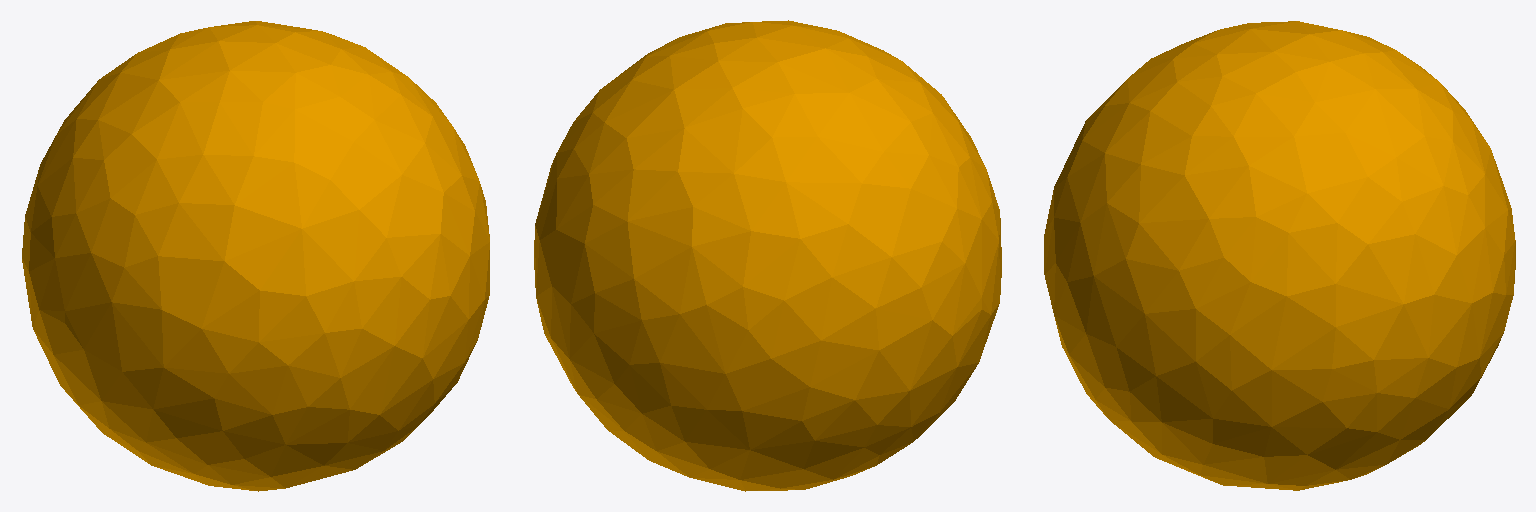
URDF robot description (057_racquetball):
<?xml version="1.0" encoding="UTF-8"?>
<robot name="057_racquetball">
	<link name="base">
		<collision>
			<geometry>
				<mesh filename="..\vhacd\057_racquetball_vhacd.obj" scale="1.0 1.0 1.0"/>
			</geometry>
			<origin xyz="0 0 0"/>
			<contact_coefficients mu="0.24" />
		</collision>
		<visual>
			<geometry>
				<mesh filename="..\vhacd\057_racquetball_vhacd.obj" scale="1.0 1.0 1.0"/>
			</geometry>
			<origin xyz="0 0 0"/>
		</visual>
		<inertial>
			<mass value="0"/>
			<inertia ixx="0.0" ixy="0.0" ixz="-0.0" iyy="0.0" iyz="-0.0" izz="0.0" />
			<origin xyz="-0.009071044775700624 -0.12221649947040174 0.027571138372910732"/>
		</inertial>
	</link>
</robot>

--- Facts derived from the render (not from the file) ---
Views: 3 orthographic renders of the robot side by side, from view 1: azimuth 30°, elevation 25°; view 2: azimuth 150°, elevation 25°; view 3: azimuth 270°, elevation 25°.
Robot: 057_racquetball — 1 links, 0 joints (none); root link base; default pose: all joints at 0.
Links seen in each view (by area): view 1: base; view 2: base; view 3: base.
Link boxes in pixels (bbox=[...]): base: bbox=[22, 21, 489, 491]; base: bbox=[534, 20, 1001, 491]; base: bbox=[1044, 21, 1515, 490].
Size in the robot's own frame: 0.056 by 0.0563 by 0.0558 metres.
1 mesh visuals loaded from 1 distinct referenced files (1 OBJ).